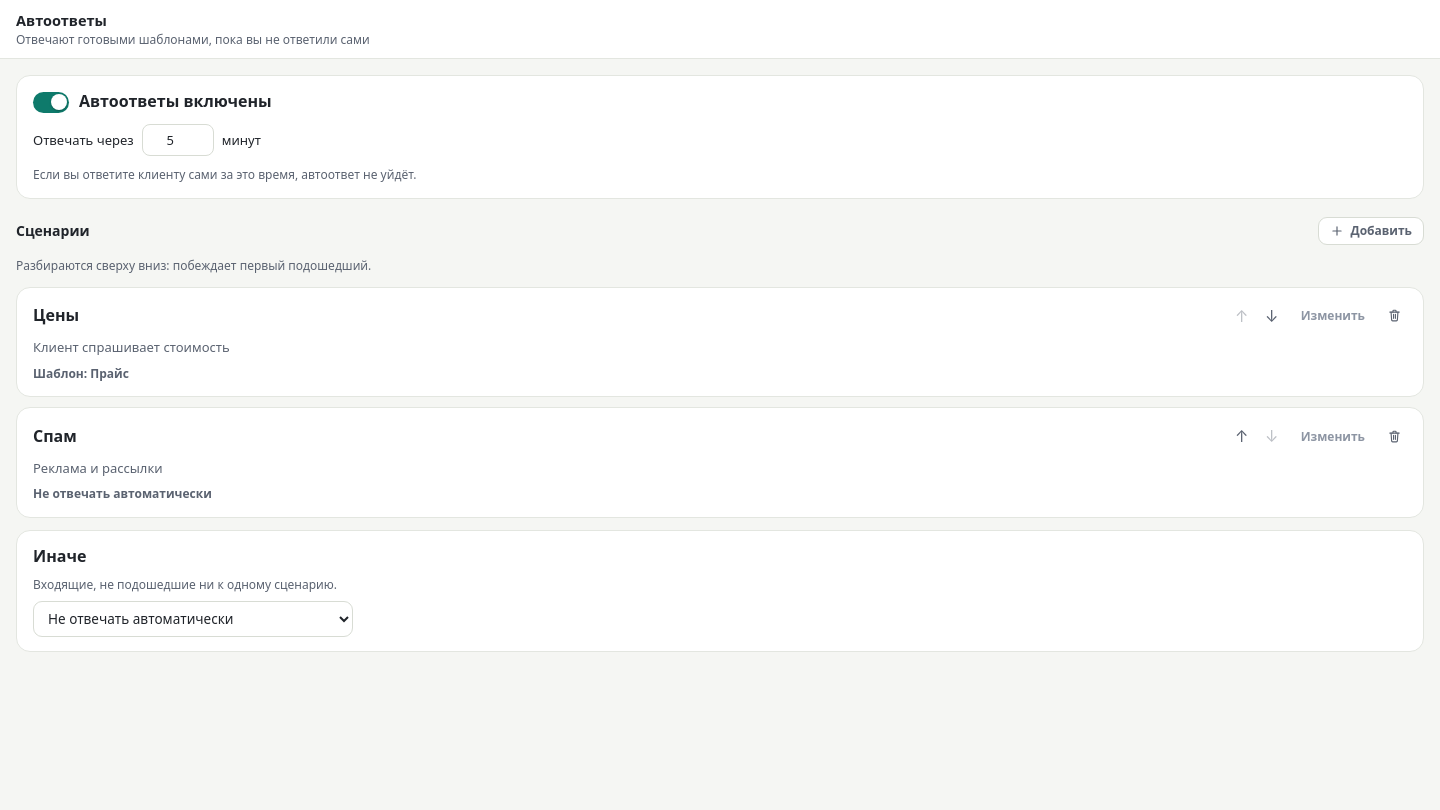
Test case: AutoReplyPanel › refuses a scenario the classifier could not tell apart
This screenshot has width=1440, height=810.
Click the button "Добавить".
click(1371, 231)  # box [1318, 217, 1424, 245]
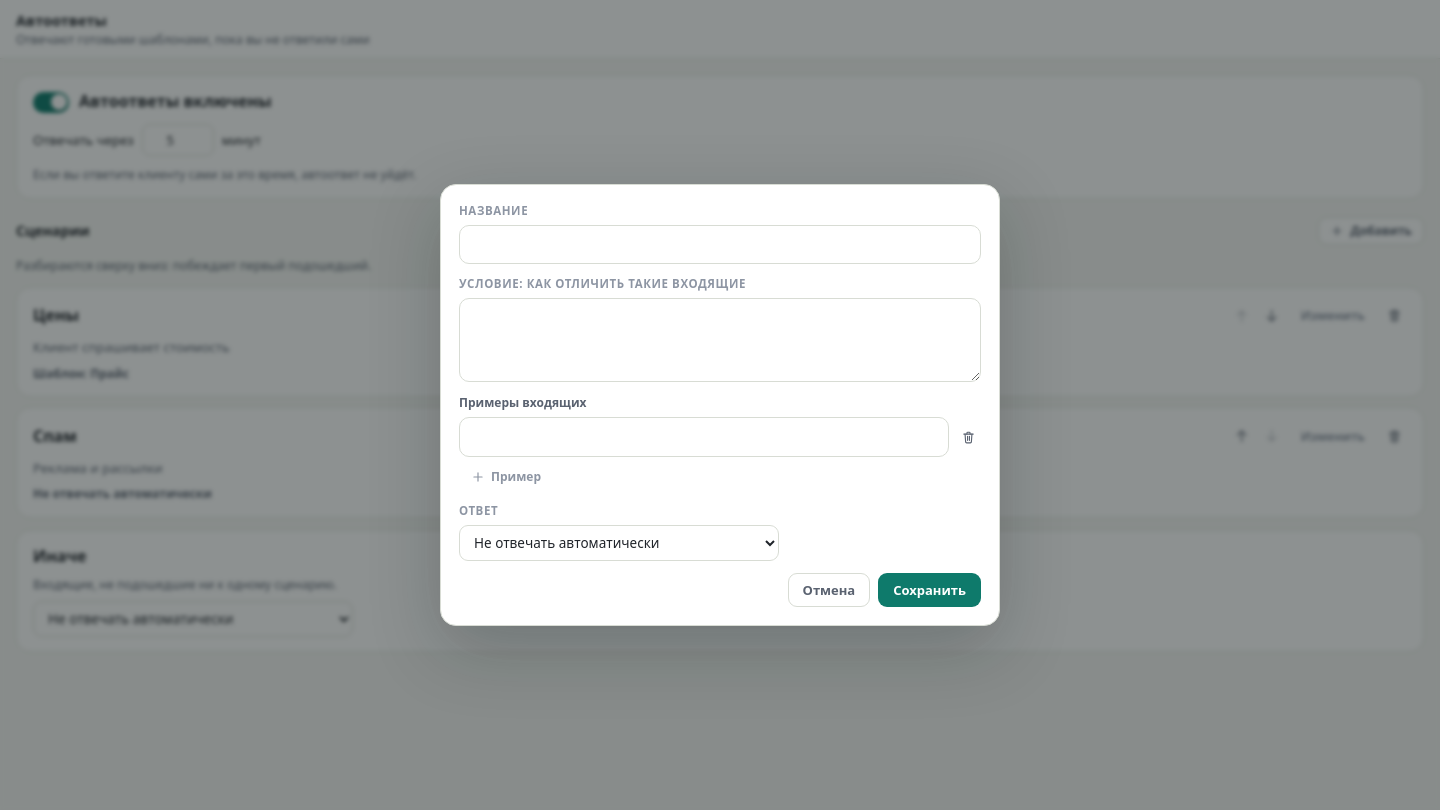
Type "Пустой" into the field labelled "Название".
click(720, 245); type("Пустой")  # box [459, 225, 981, 264]
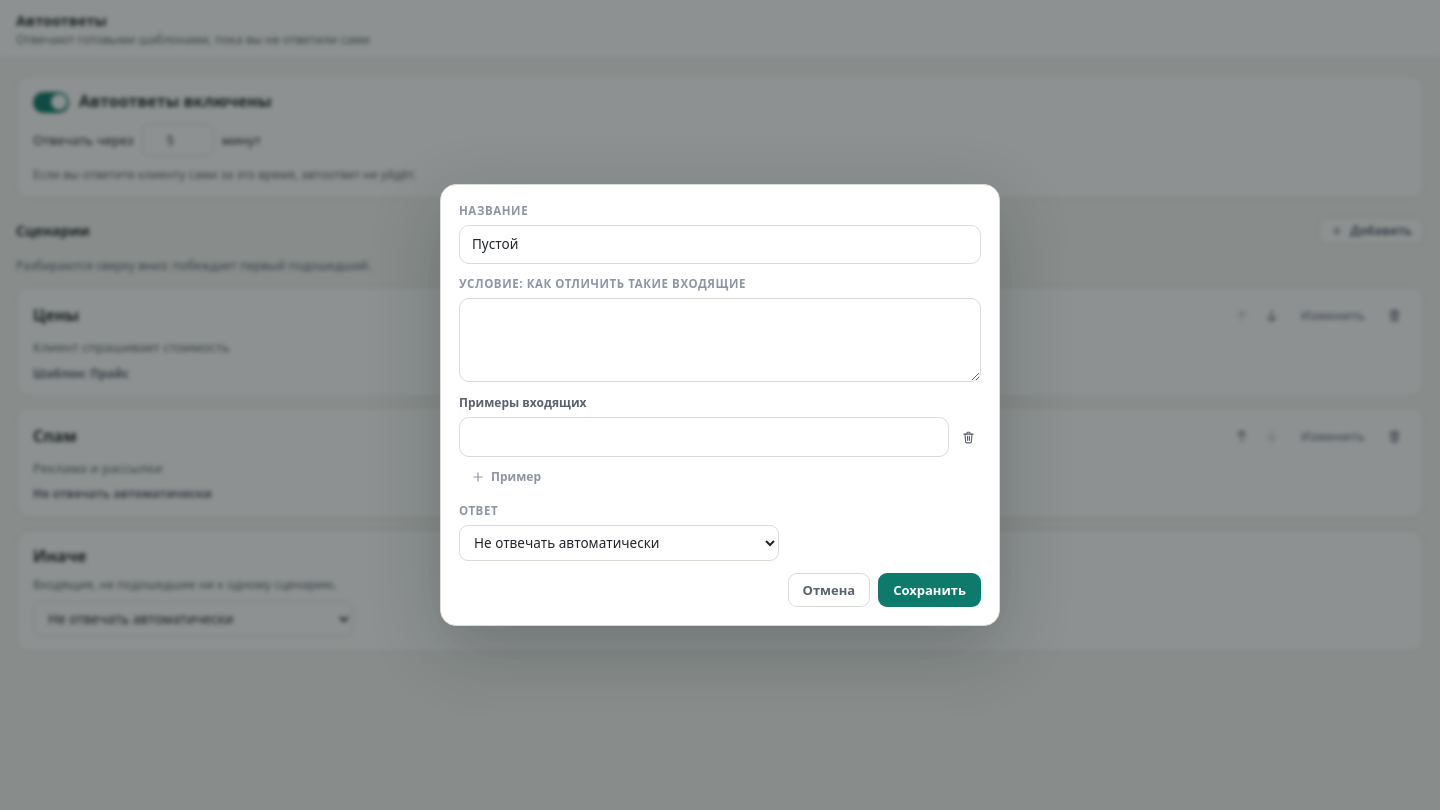
Click the button "Сохранить".
click(930, 590)  # box [878, 573, 981, 607]
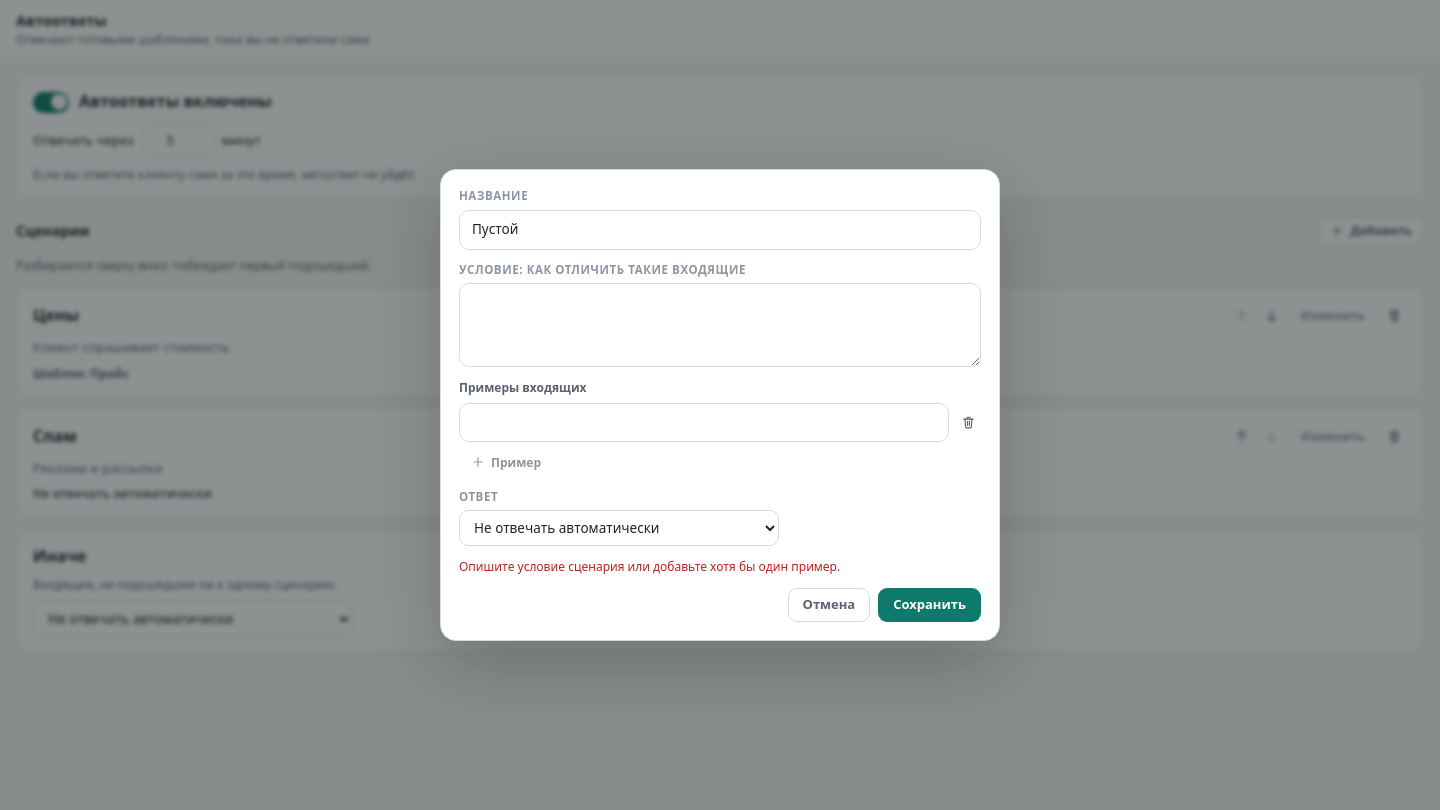
Check: the text "Опишите условие сценария или добавьте хотя бы один пример." is shown, box [459, 558, 840, 575]
